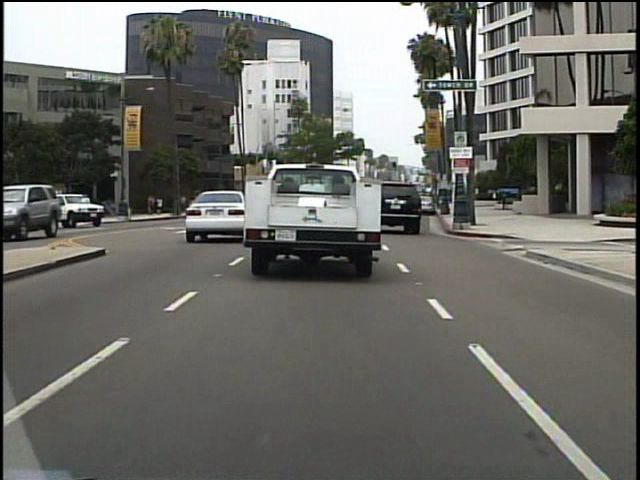person: (14, 193, 36, 232), (79, 190, 95, 226), (116, 188, 133, 218), (70, 194, 85, 227)
